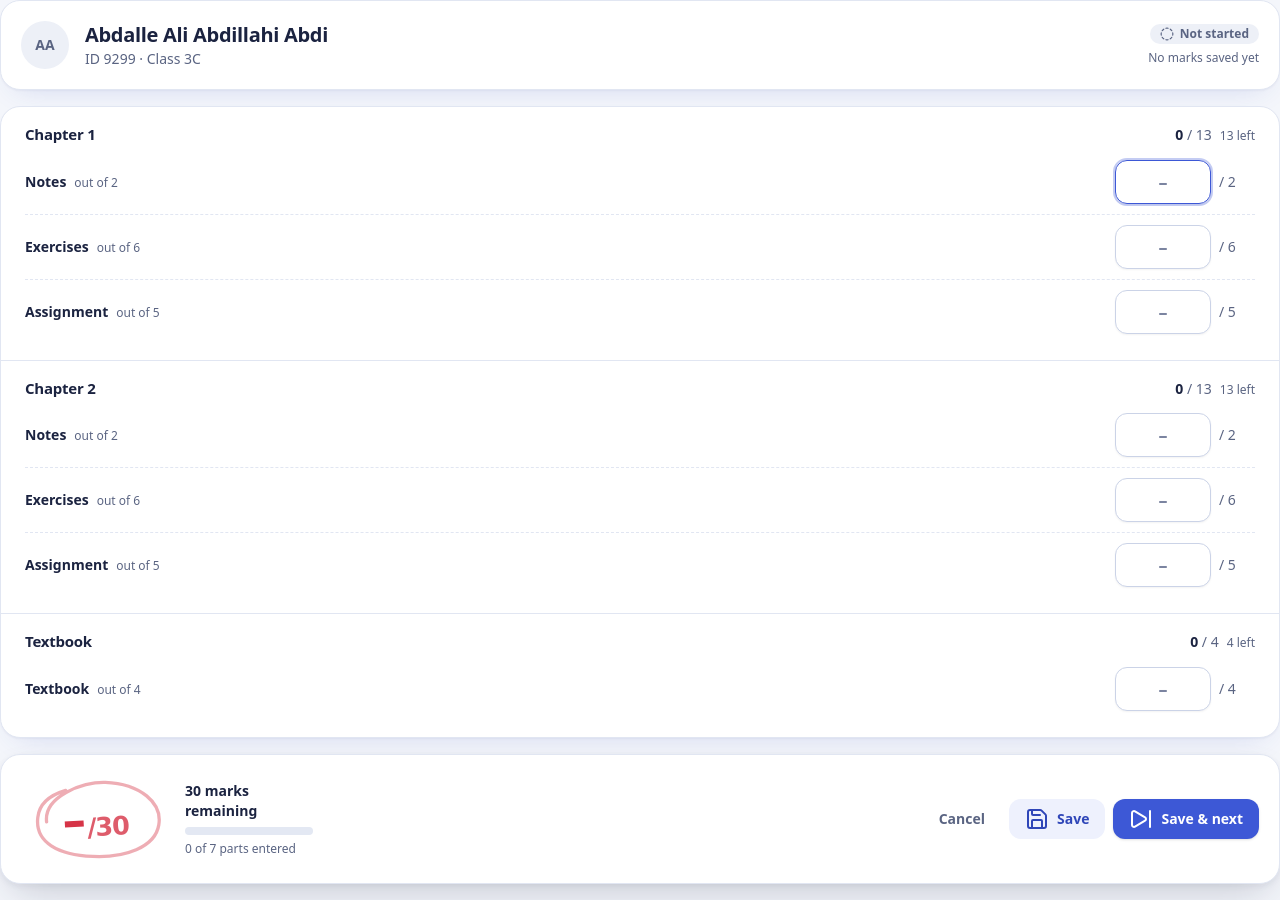
MarkSheet › flags negative, over-maximum and non-numeric values and blocks saving
Later steps or results of the test are not shown.
Step 1. Type "3" into the field named "Chapter 1 Notes" → [1163, 182], box [1115,160,1211,204]
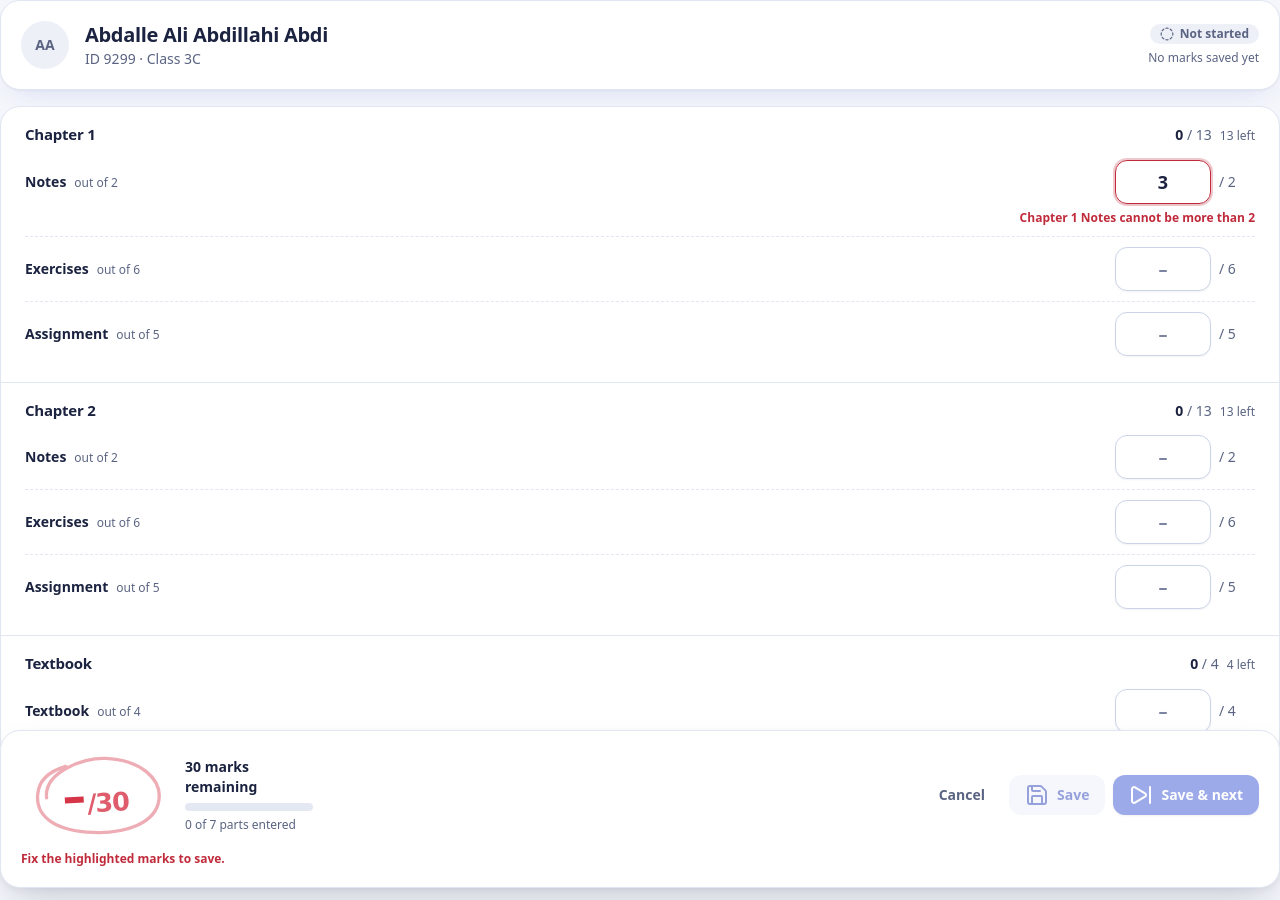
Step 2. Type "-1" into the field named "Chapter 1 Exercises" → [1163, 268], box [1115,246,1211,290]
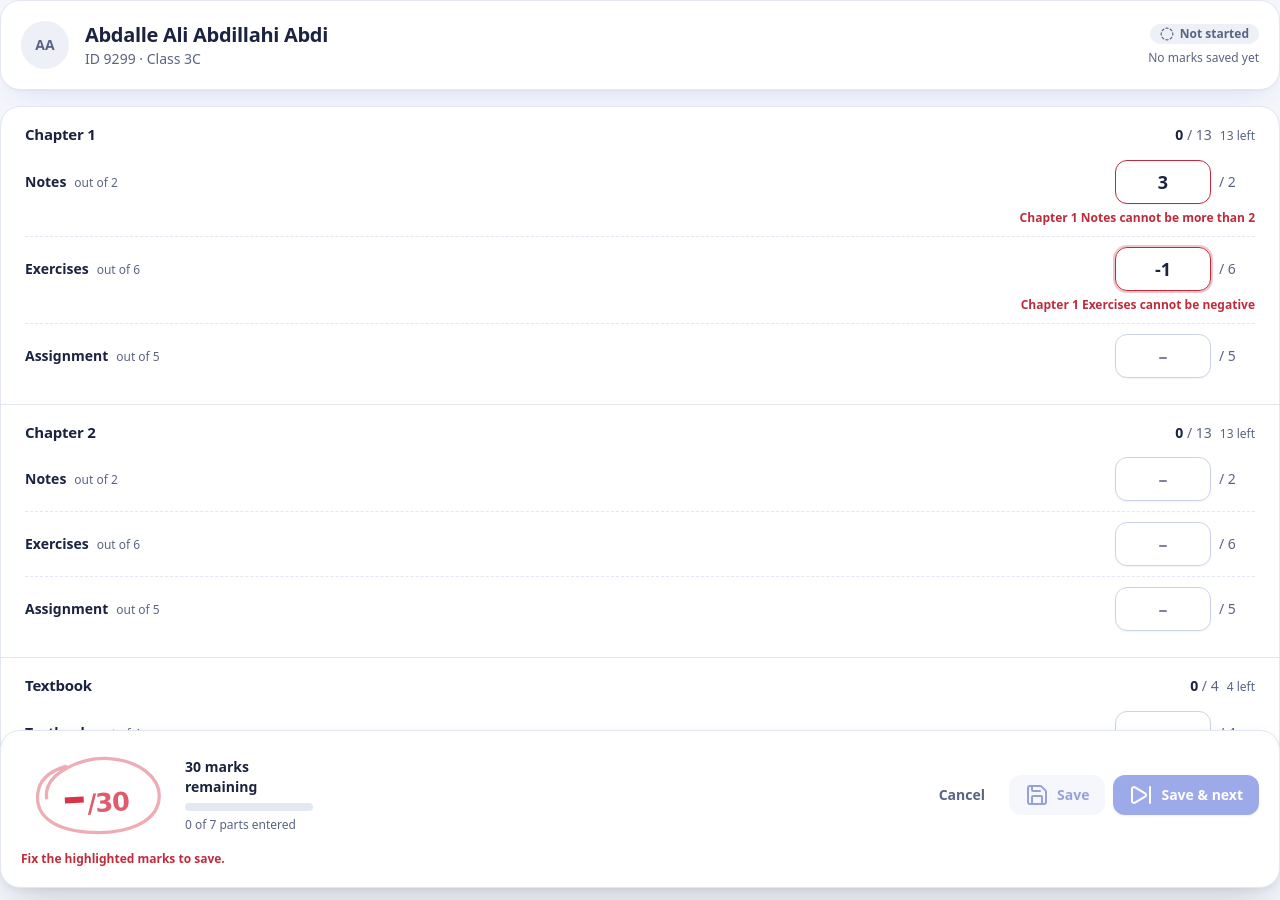
Step 3. Type "abc" into the field named "Chapter 1 Assignment" → [1163, 356], box [1115,334,1211,378]
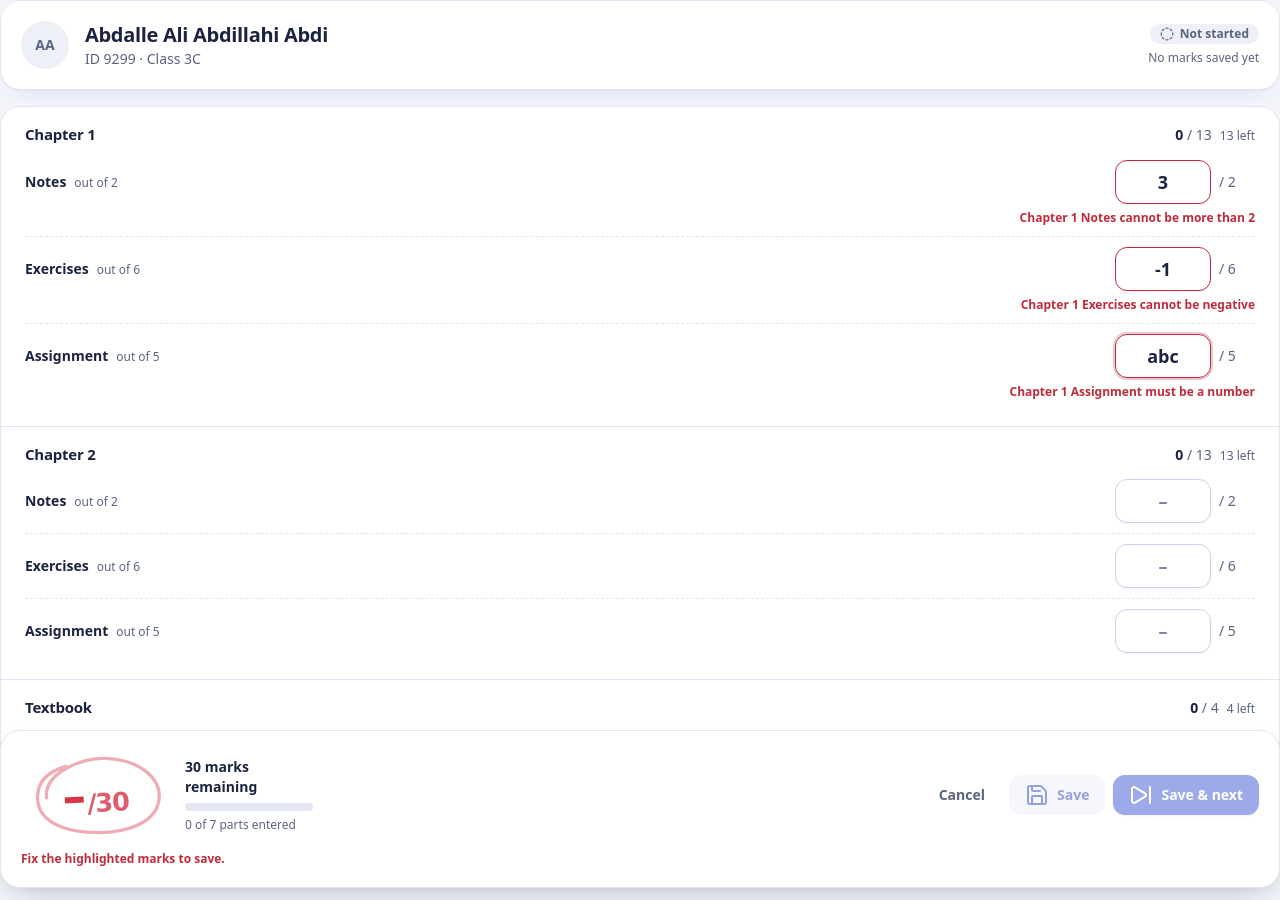
Expected: the text "Chapter 1 Notes cannot be more than 2" is shown, [1020,208,1255,226]
Expected: the text "Chapter 1 Exercises cannot be negative" is shown, [1021,296,1255,312]
Expected: the text "Chapter 1 Assignment must be a number" is shown, [1010,382,1255,400]
